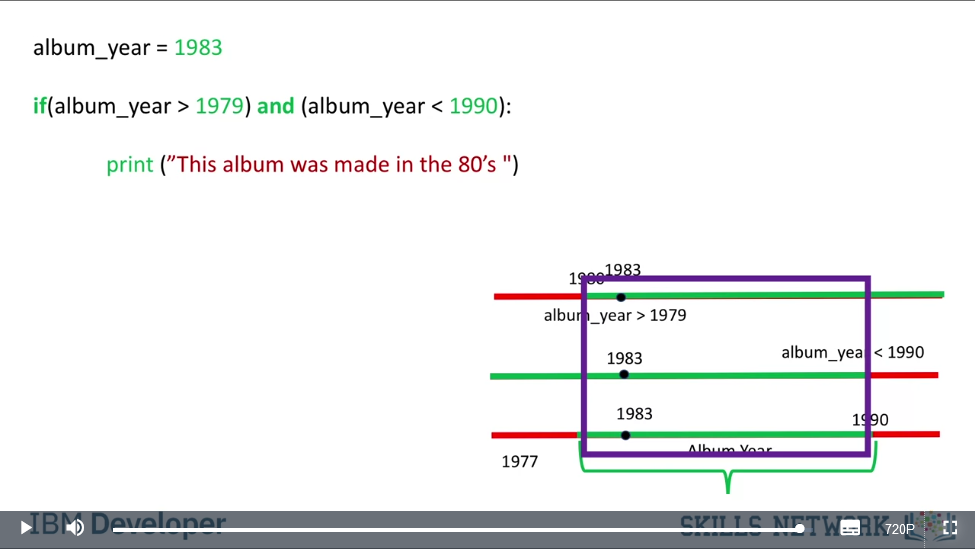code block: (31, 32, 523, 182)
figure: (488, 256, 944, 503)
